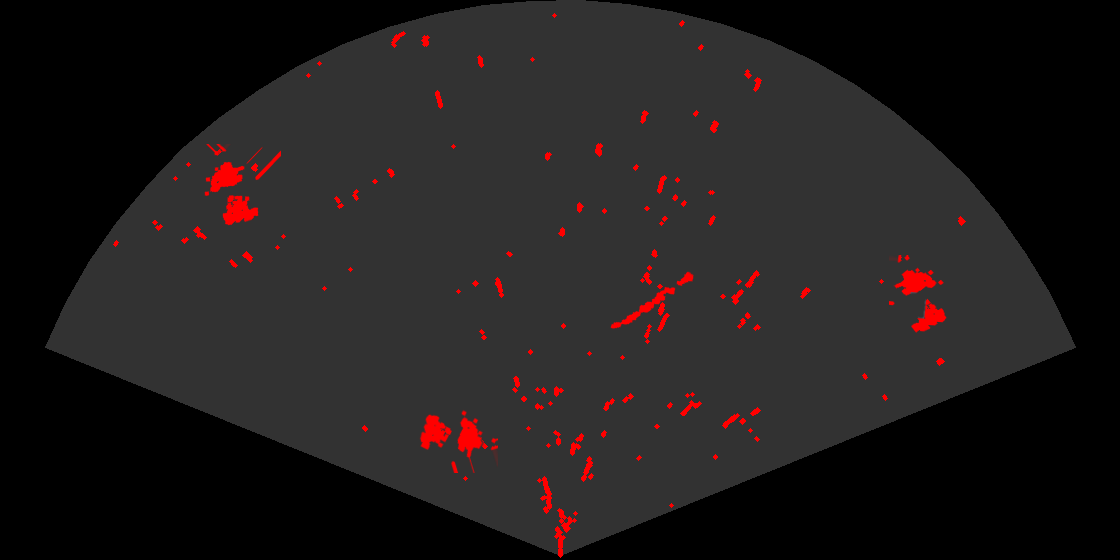cage: (203, 144, 281, 227), (418, 408, 498, 473), (889, 255, 948, 334)
chain: (609, 270, 695, 330)
